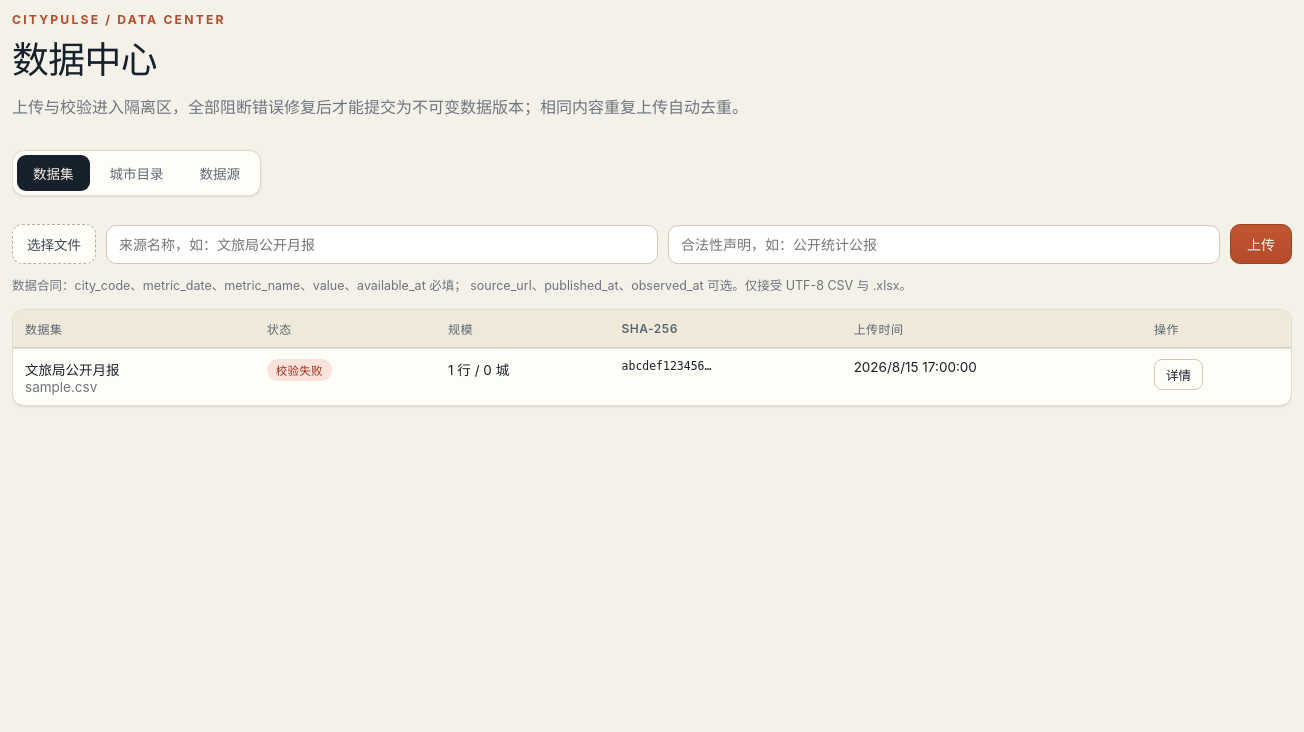
Scenario: invalid datasets expose blocking errors in the detail view
Click the button "详情" at (1178, 374), box [1154,359,1203,390]
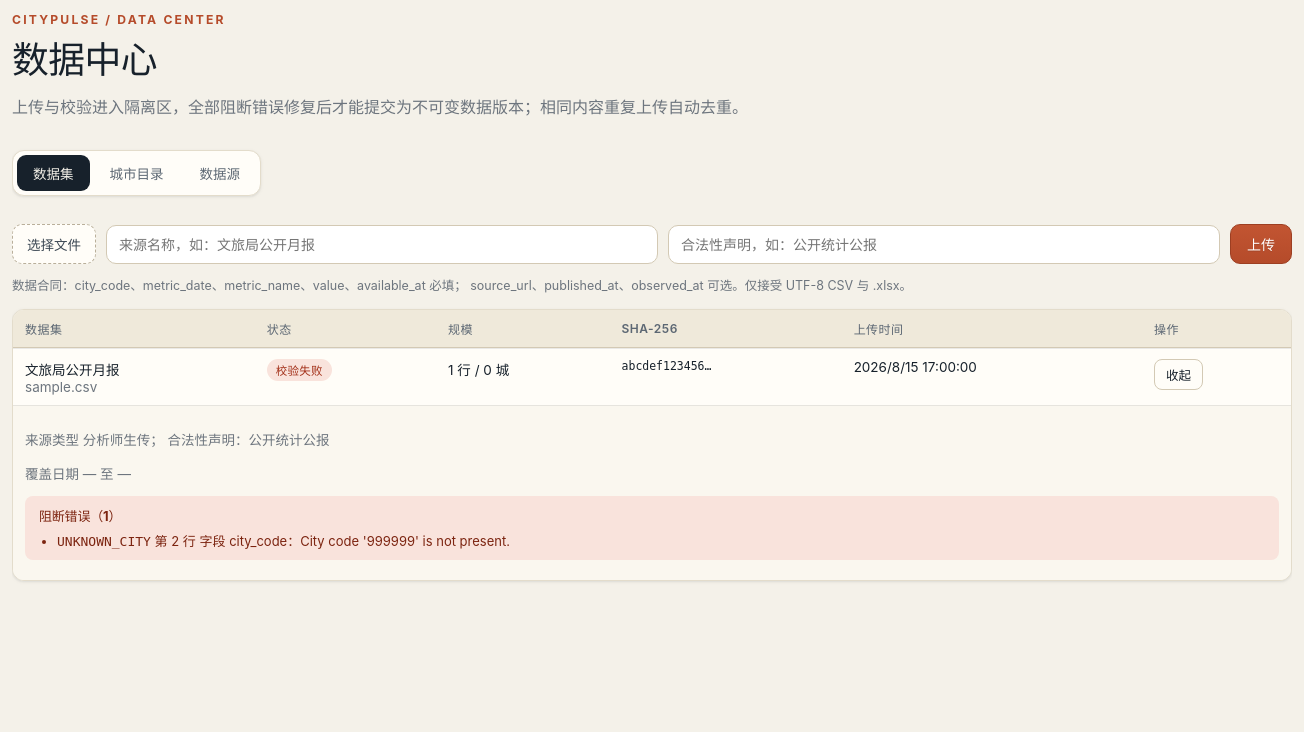
Expected: the text "UNKNOWN_CITY" is shown, [57,534,151,549]
